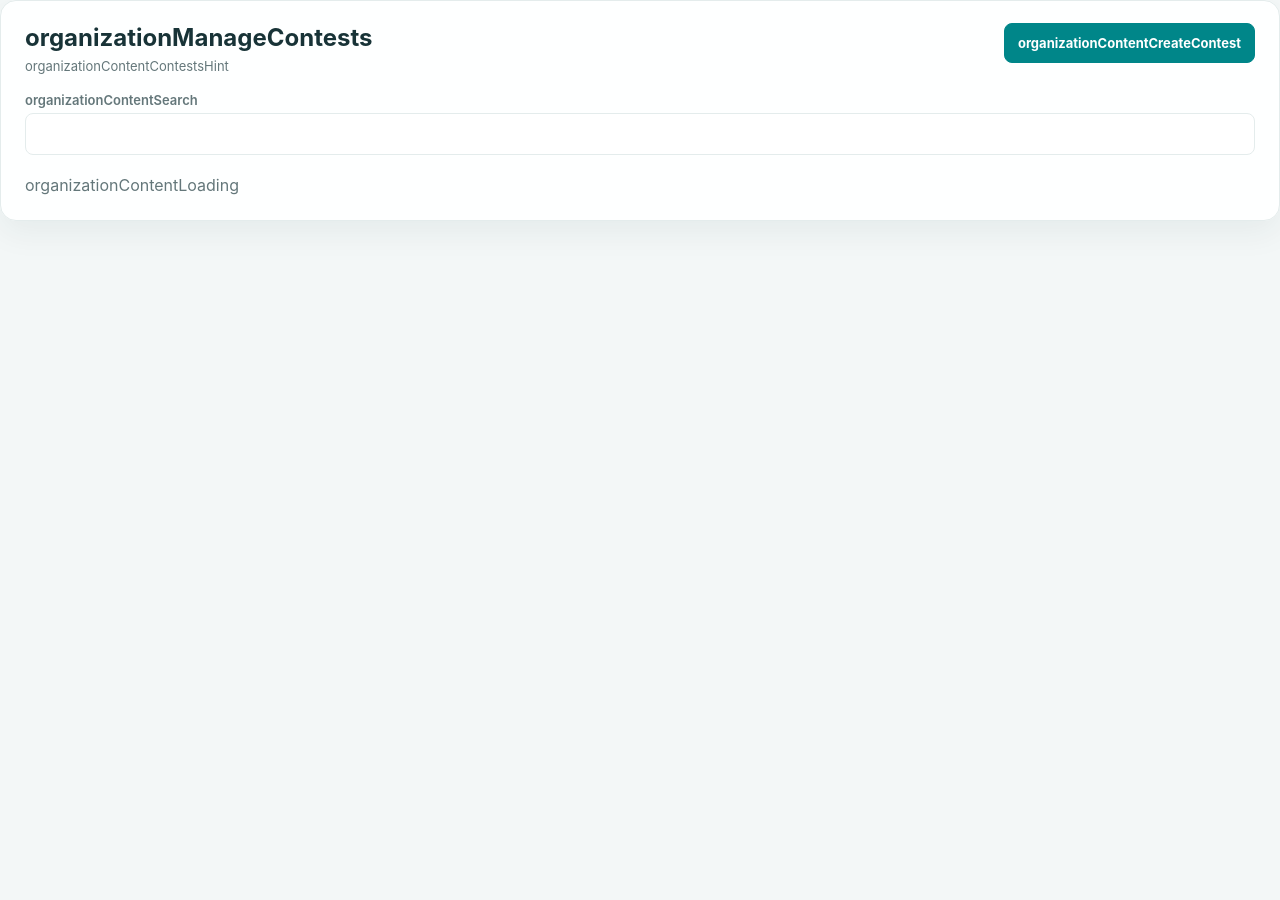
Test: OrganizationContentPanel create interactions › keeps the contest form available while the initial list request is loading
Click the button "organizationContentCreateContest" at coordinates (1129, 43), box [1004,23,1255,63]
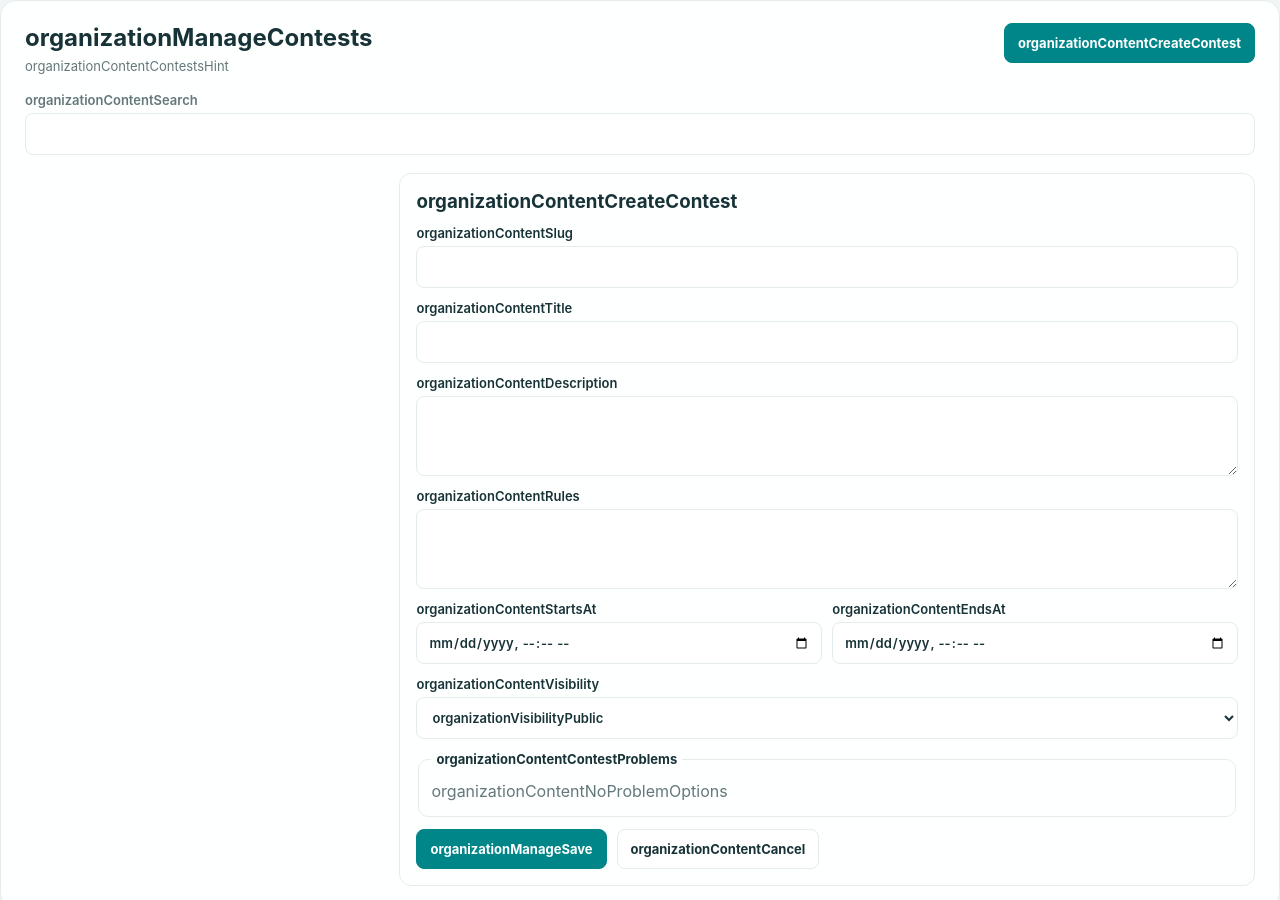
Expected: the form is shown, [416,190,1238,869]
